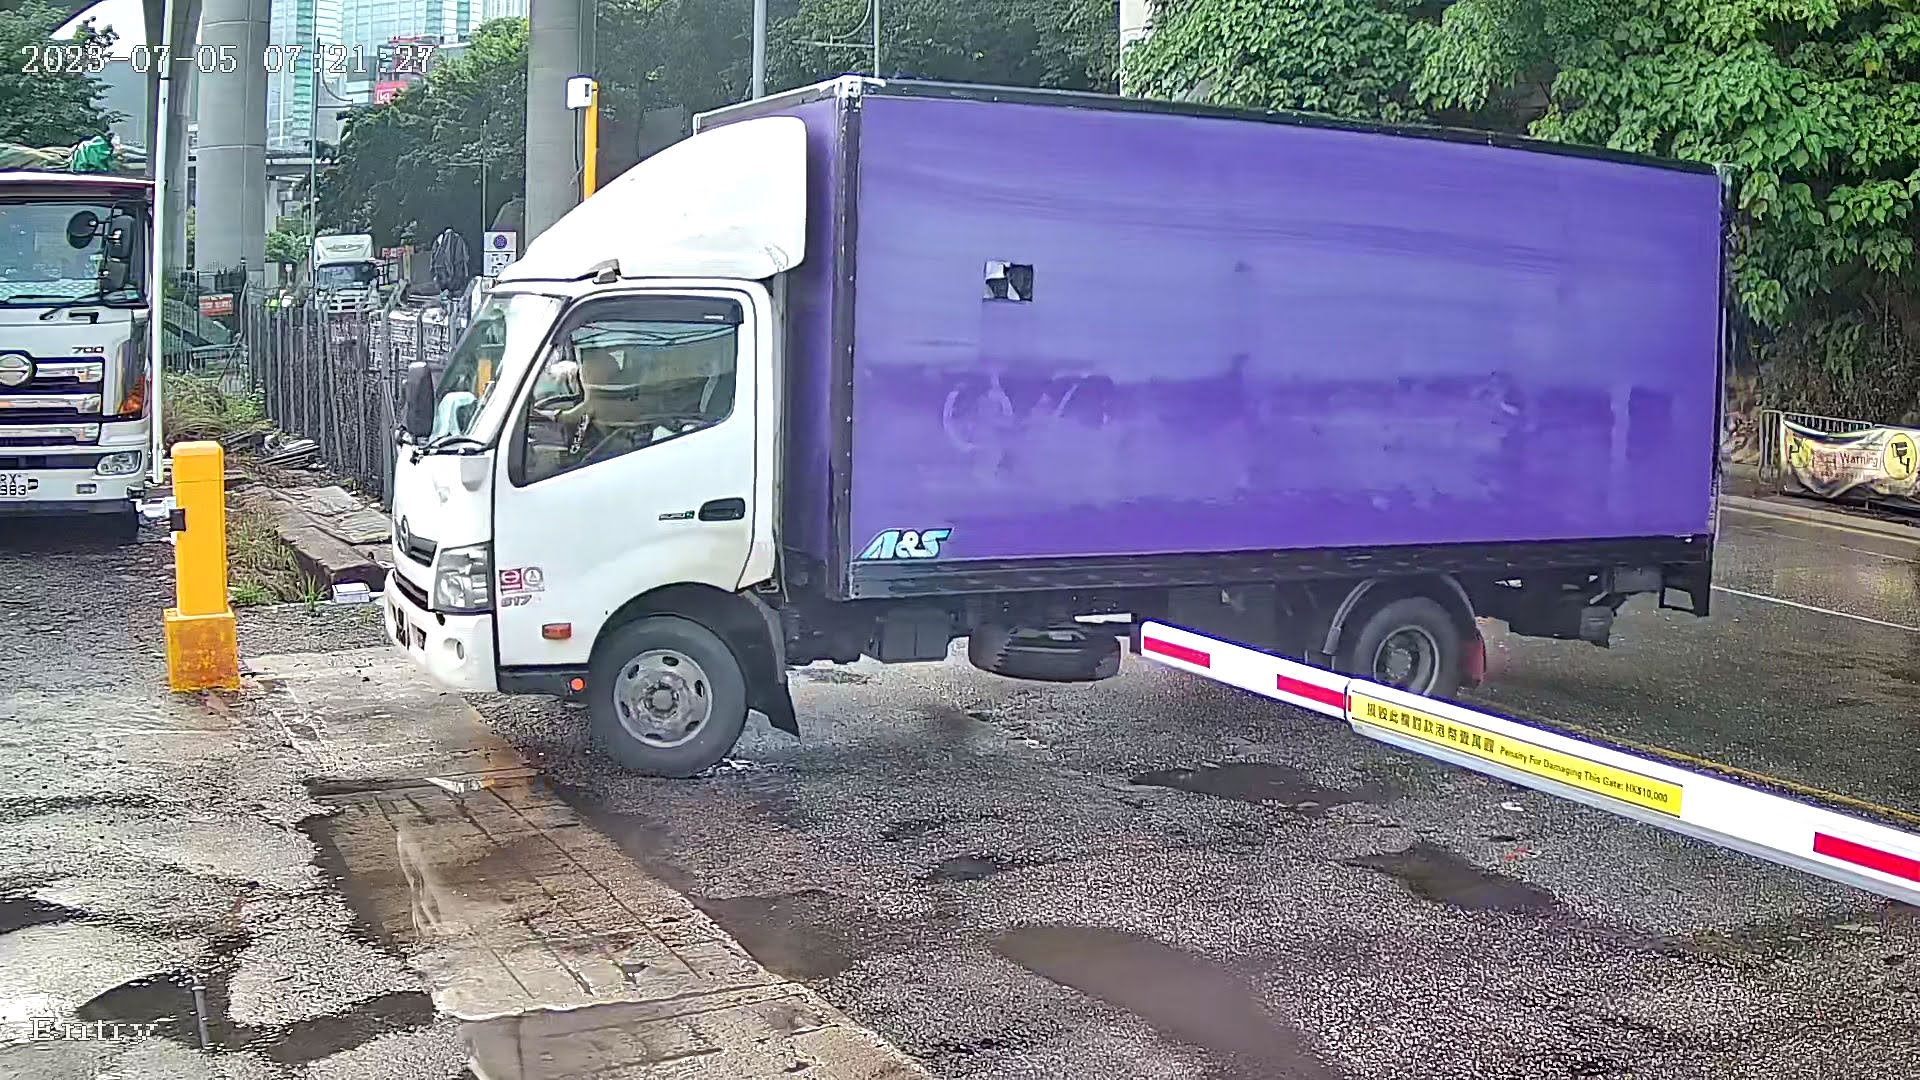truck_small: (347, 58, 1793, 799)
